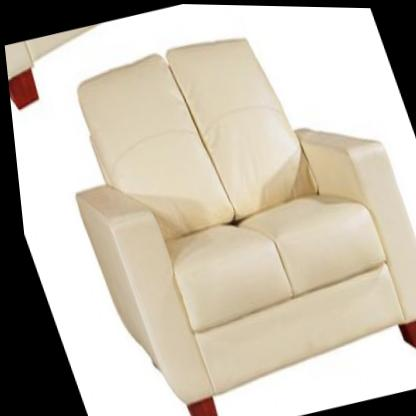Sofa: (24, 4, 416, 416)
